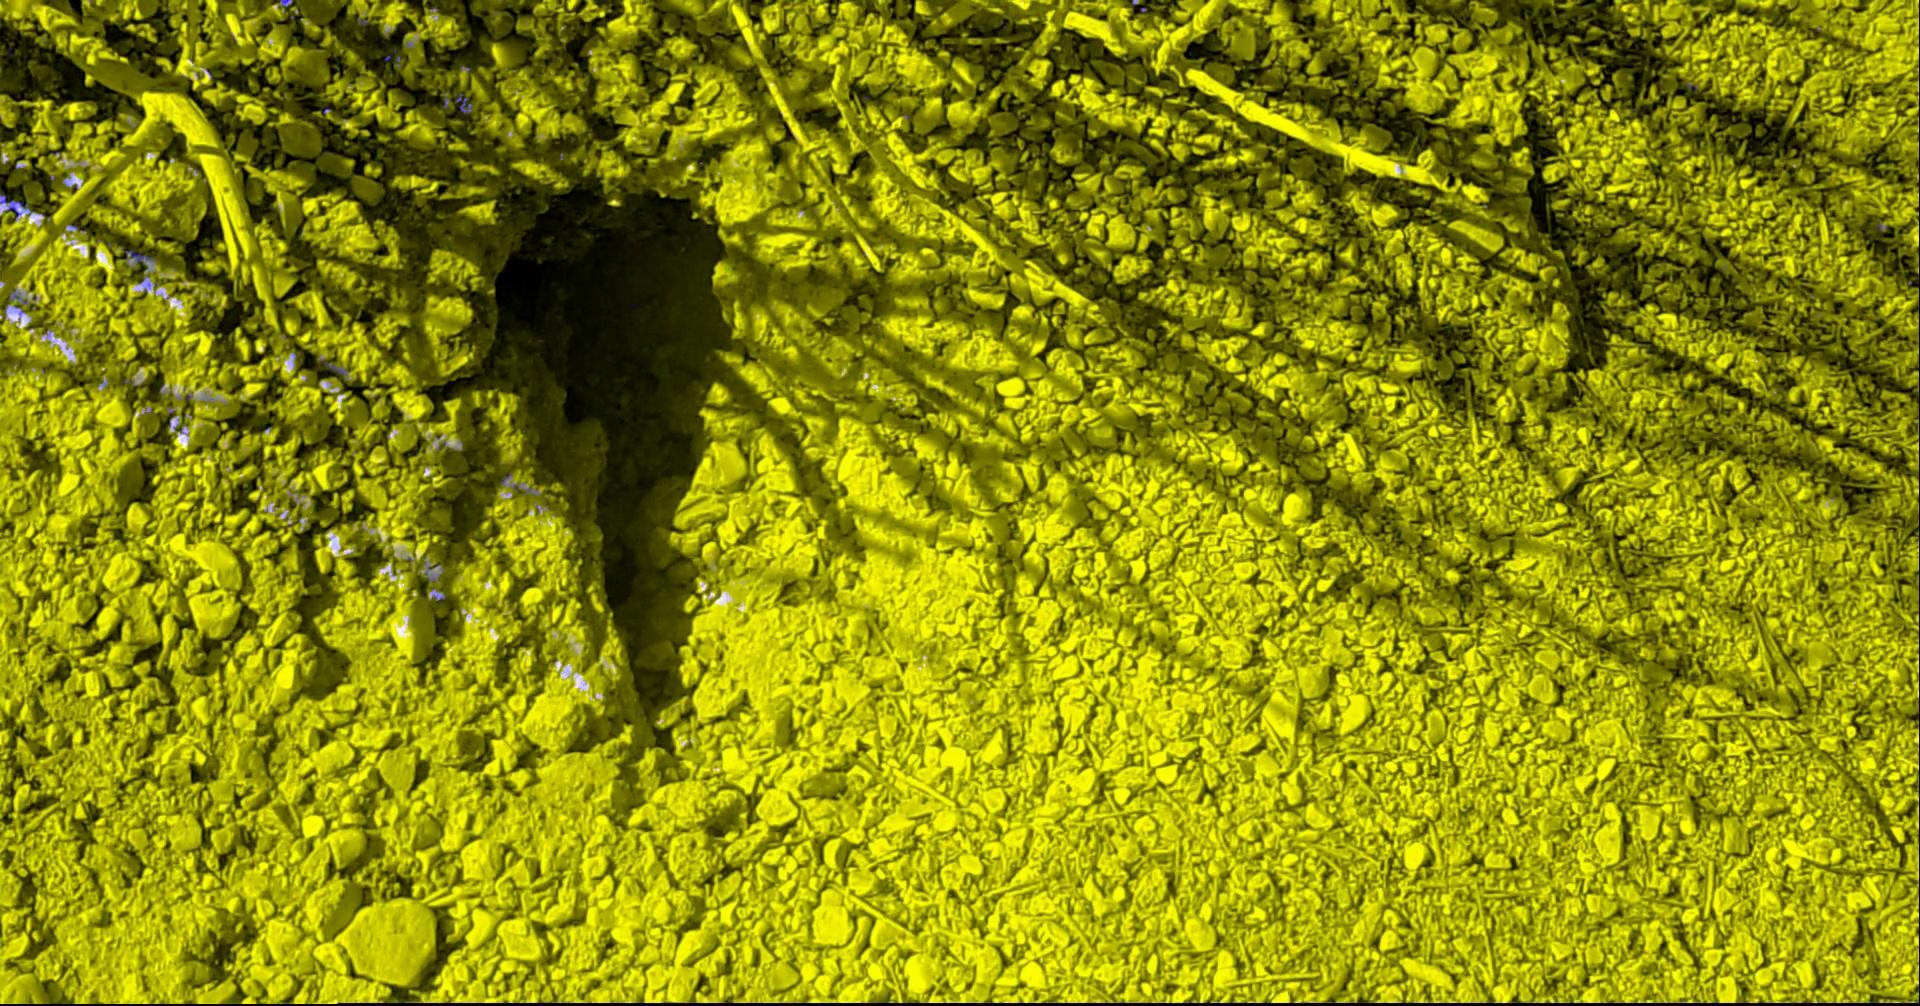ant: (0, 193, 32, 218), (319, 359, 348, 377), (124, 249, 154, 264), (455, 93, 472, 113)
